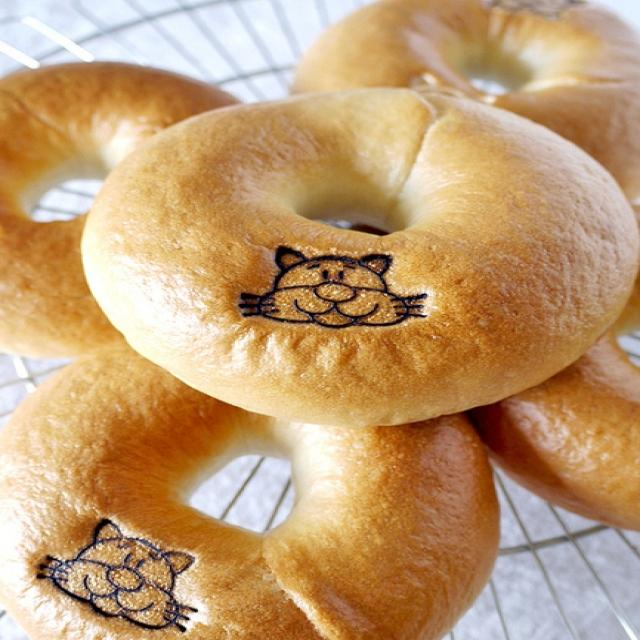面包点心: (71, 58, 637, 437)
